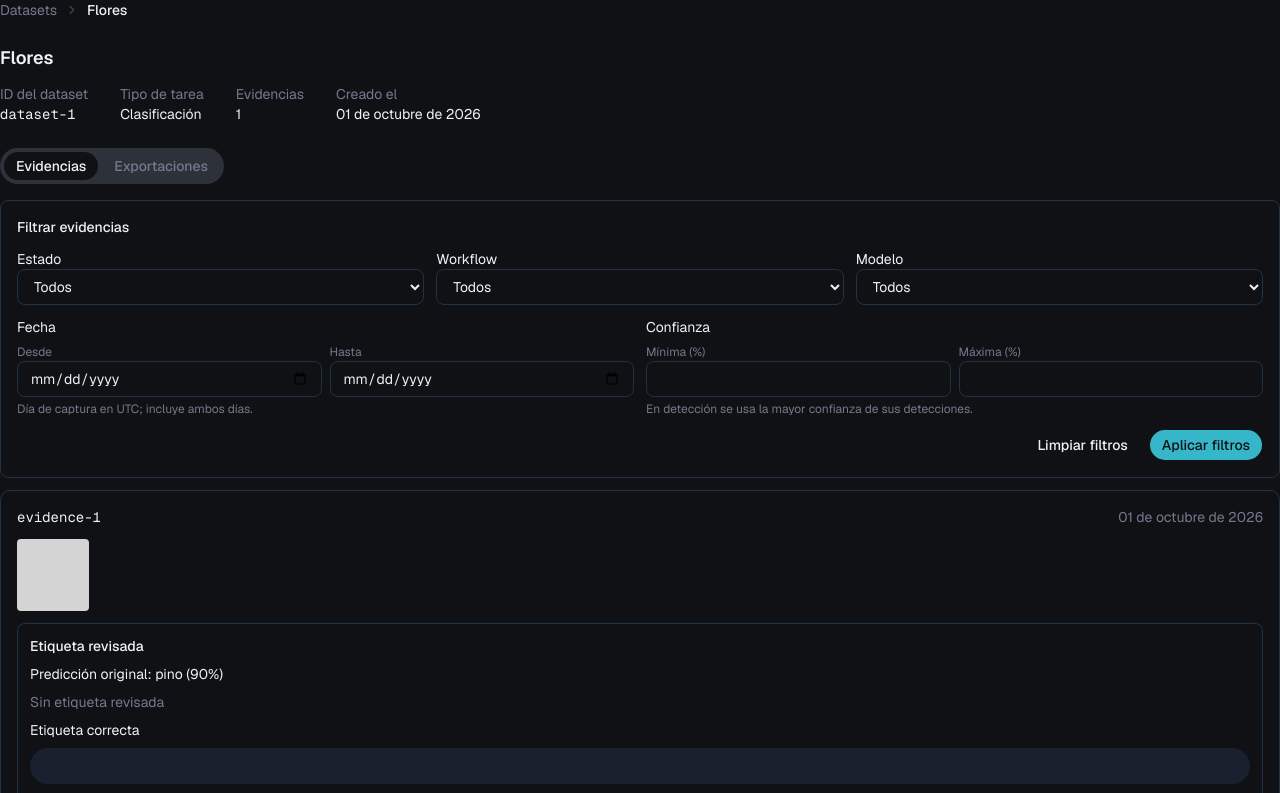
DatasetDetailView › saves a reviewed label apart from the read-only original prediction
Check: the text "Predicción original: pino (90%)" is shown, box [30,665,223,683]
Check: the text "Sin etiqueta revisada" is shown, box [30,693,164,711]
Type " cedro " into the field labelled "Etiqueta correcta".
click(640, 766); type(" cedro ")  # box [30,748,1250,784]
(page scrolled)
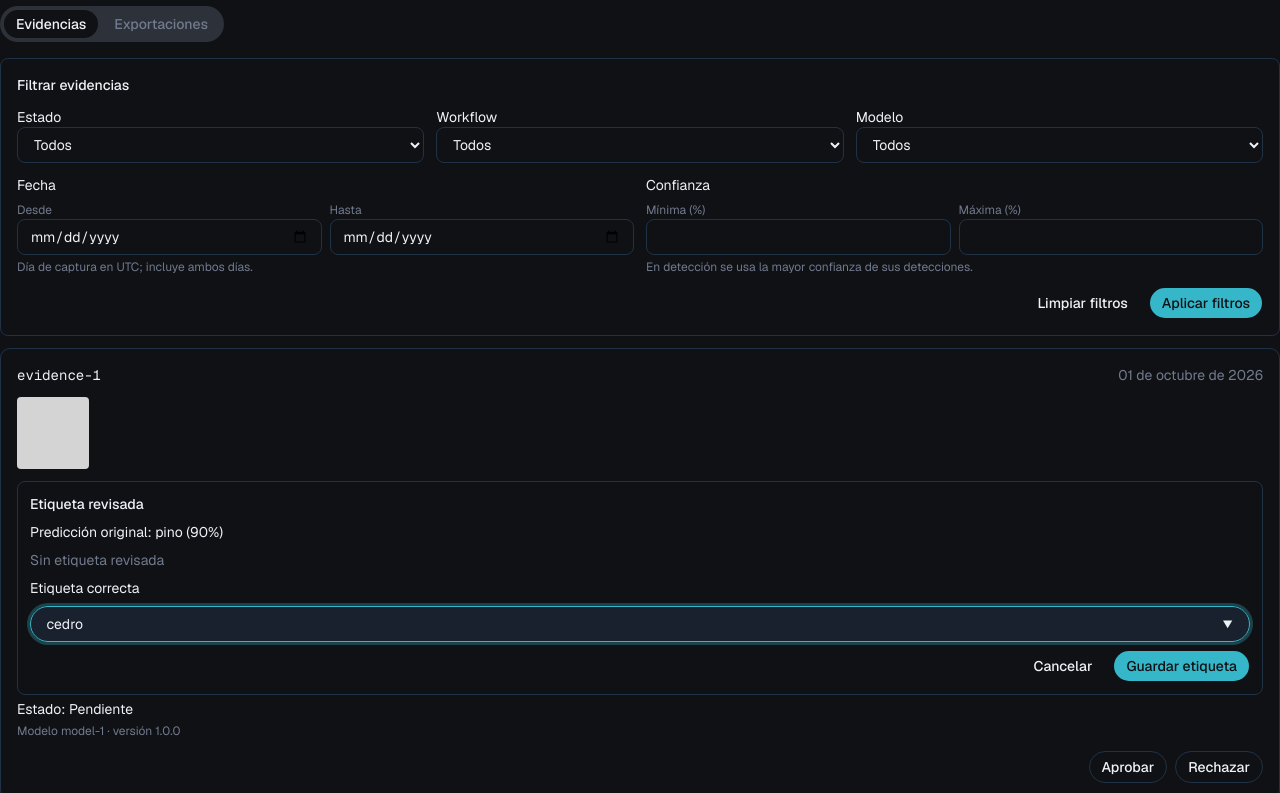
Click the button "Guardar etiqueta".
click(1182, 666)  # box [1113,650,1250,682]
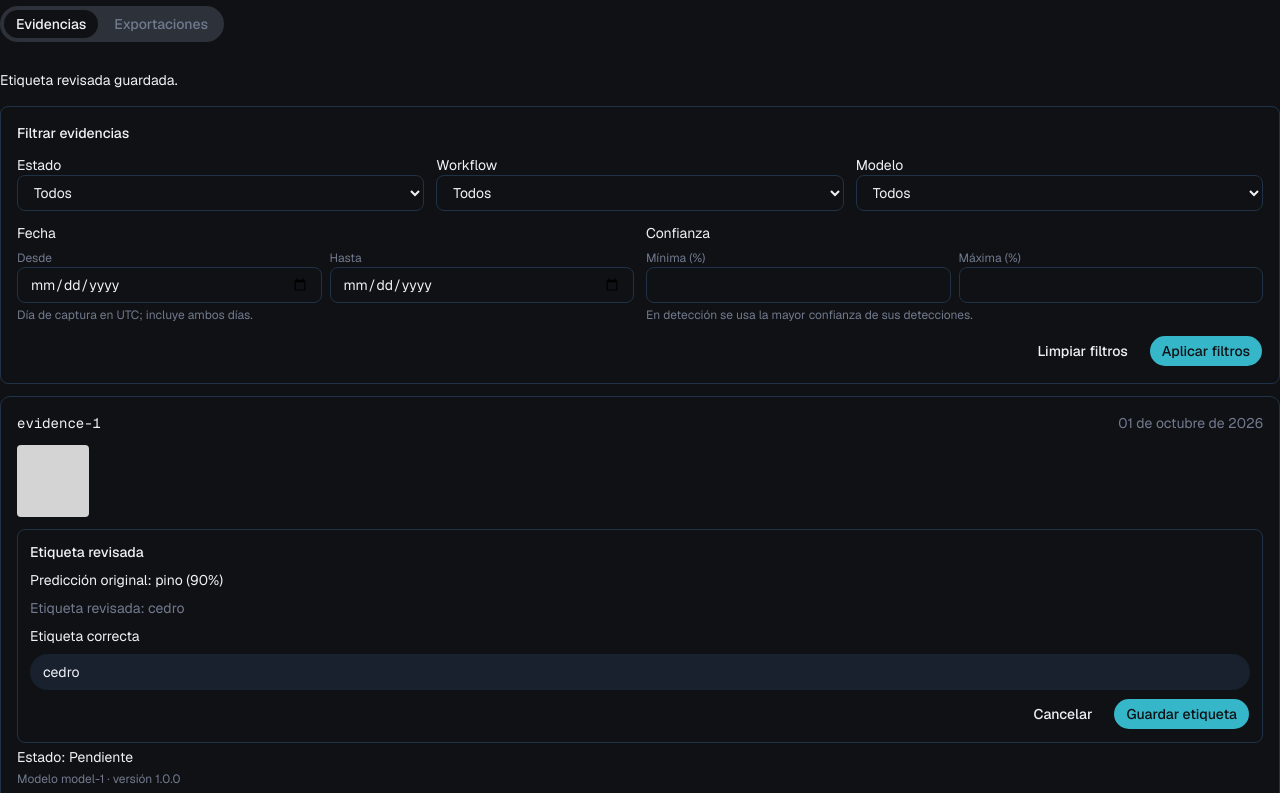
Check: the text "Predicción original: pino (90%)" is shown, box [30,571,223,589]
Check: the text "Etiqueta revisada guardada." is shown, box [0,71,178,89]
Check: the text "Etiqueta revisada: cedro" is shown, box [30,599,184,617]
